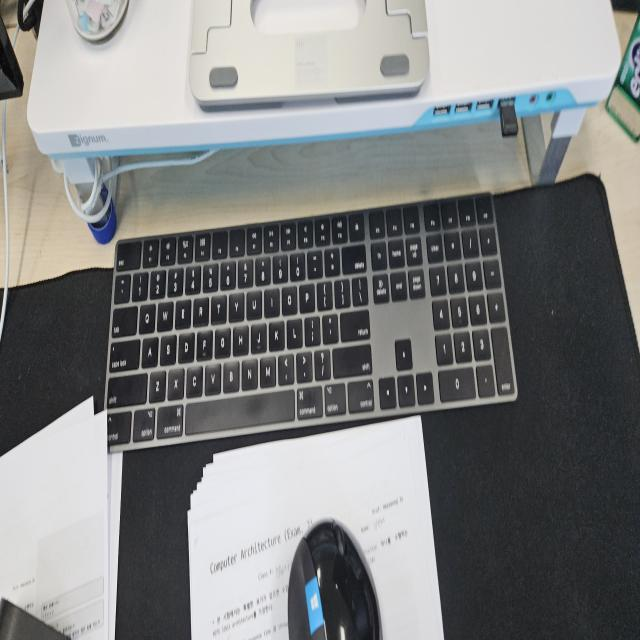Keyboard: (103, 190, 518, 452)
Mouse: (286, 513, 384, 637)
